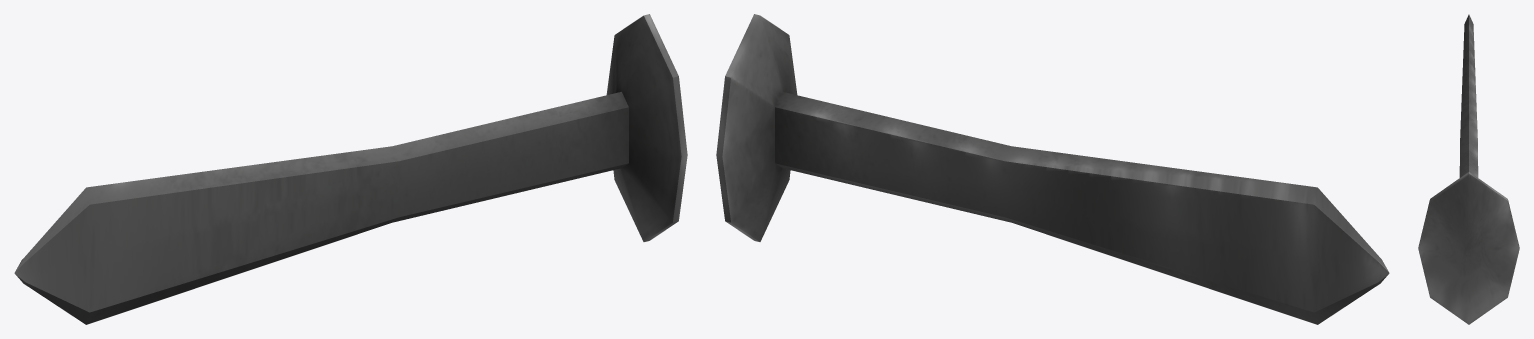
The model's file is BubbleSword.fbx.
3 renders of one model, left to right at view 1: azimuth 30°, elevation 25°; view 2: azimuth 150°, elevation 25°; view 3: azimuth 270°, elevation 25°, orthographic. The views are drawn at different scales.
Parts seen in each view (by area): view 1: sword; view 2: sword; view 3: sword.
Part boxes in pixels (bbox=[...]): sword: bbox=[14, 14, 687, 324]; sword: bbox=[716, 14, 1389, 324]; sword: bbox=[1418, 14, 1519, 324].
Bounding box in the file's own units: 57.29 × 19.42 × 11.76.
